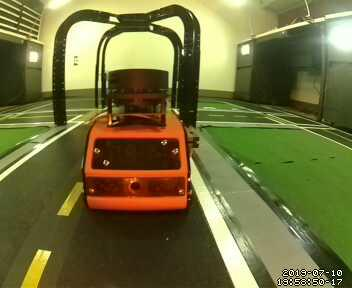pheeno: (81, 67, 196, 218)
